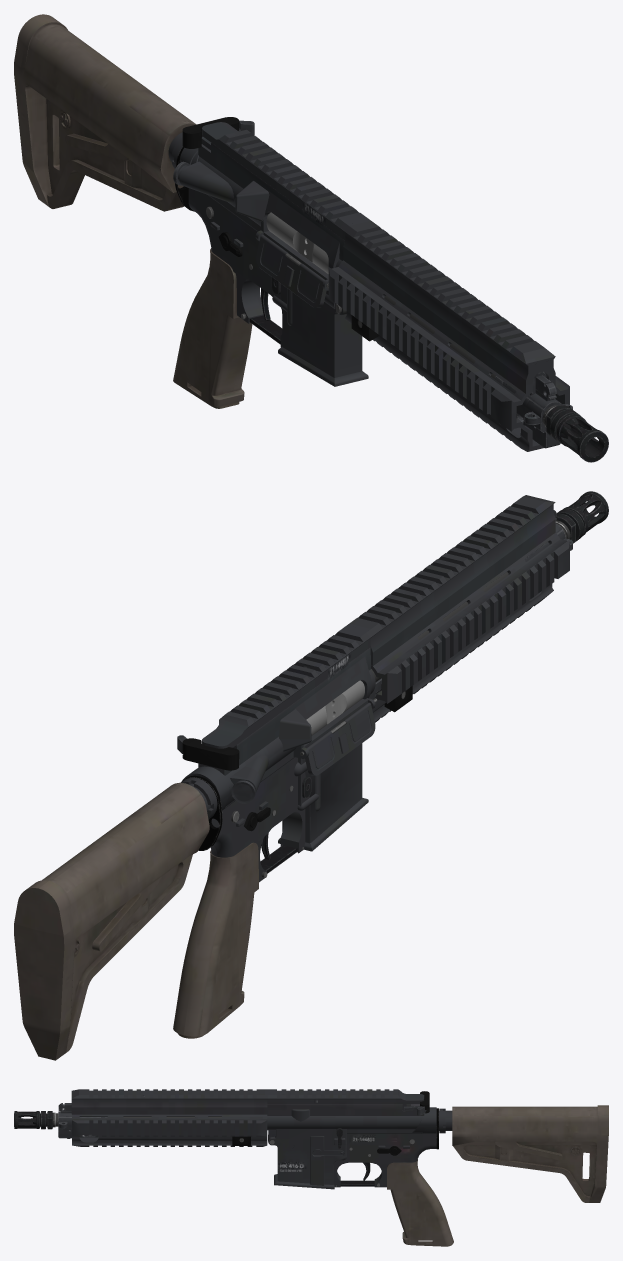
File: gun-hk416.glb
3 views of the same model, one above another, from view 1: azimuth 30°, elevation 25°; view 2: azimuth 150°, elevation 25°; view 3: azimuth 270°, elevation 25° (orthographic). The views are drawn at different scales.
Visible parts, largest first — view 1: Object_11, Object_10, Object_9, Object_8, Object_12, Object_14, Object_19, Object_4, Object_16, Object_15, Object_13; view 2: Object_11, Object_9, Object_10, Object_8, Object_12, Object_19, Object_14, Object_4; view 3: Object_11, Object_10, Object_9, Object_8, Object_12, Object_14, Object_19, Object_16, Object_2, Object_15, Object_18.
Part boxes in pixels (x1,y1,x2,y2): Object_11: [168, 122, 555, 451]; Object_10: [172, 135, 569, 451]; Object_9: [14, 14, 252, 406]; Object_8: [14, 19, 239, 408]; Object_12: [171, 137, 548, 379]; Object_14: [546, 405, 602, 458]; Object_19: [182, 117, 379, 341]; Object_4: [266, 212, 328, 273]; Object_16: [494, 376, 572, 442]; Object_15: [519, 372, 570, 448]; Object_13: [550, 408, 608, 462]; Object_11: [182, 495, 559, 882]; Object_9: [14, 842, 258, 1060]; Object_10: [189, 501, 569, 852]; Object_8: [33, 782, 232, 1060]; Object_12: [181, 647, 375, 853]; Object_19: [182, 684, 412, 831]; Object_14: [555, 491, 608, 543]; Object_4: [306, 680, 364, 735]; Object_11: [71, 1089, 452, 1189]; Object_10: [71, 1089, 445, 1187]; Object_9: [387, 1105, 608, 1245]; Object_8: [405, 1105, 608, 1246]; Object_12: [267, 1108, 445, 1151]; Object_14: [14, 1111, 52, 1129]; Object_19: [232, 1091, 429, 1155]; Object_16: [58, 1103, 107, 1138]; Object_2: [340, 1162, 374, 1186]; Object_15: [58, 1103, 79, 1138]; Object_18: [52, 1112, 221, 1127].
Size of the model in its own units: 2.33 by 7.99 by 28.45.
Materials: 13 (13 with a texture image).
